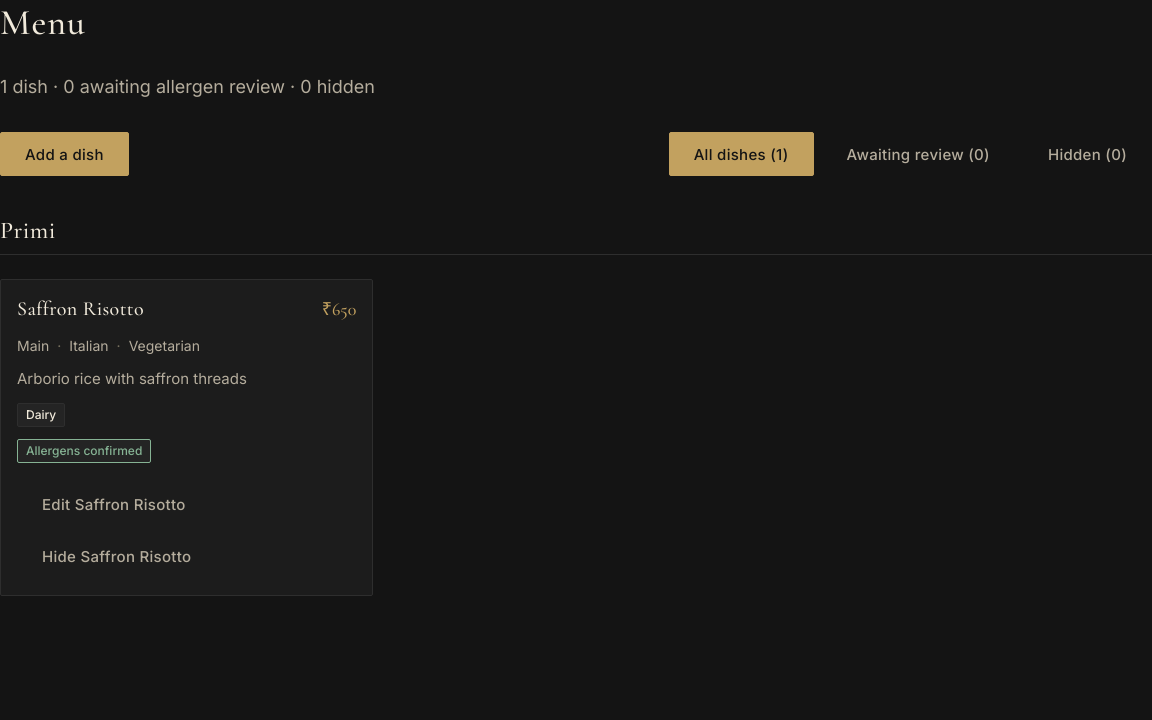
it: MenuManager page › 11. edit with no changes sends no network request and displays note
The width and height of the screenshot is (1152, 720).
Expected: the heading "Saffron Risotto" is shown, [17,297,144,322]
Click the button "Edit Saffron Risotto" at (114, 504), box [17,482,210,526]
(page scrolled)
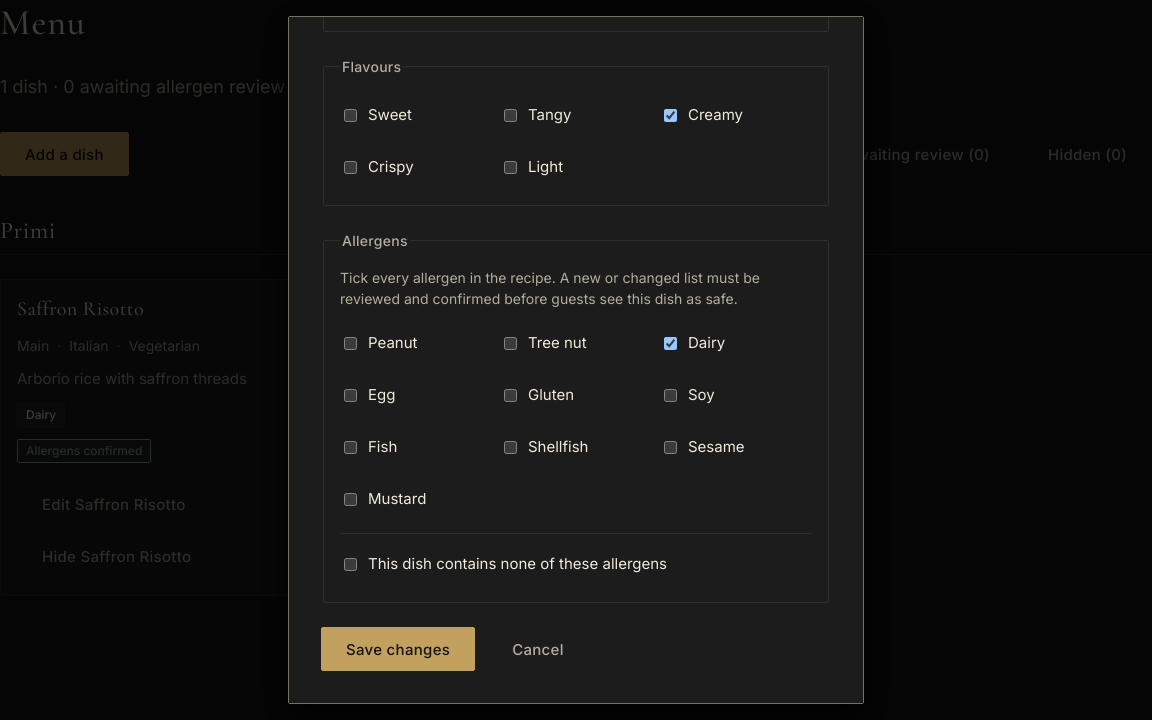
Click the button "Save changes" at (398, 649), box [321,627,475,671]
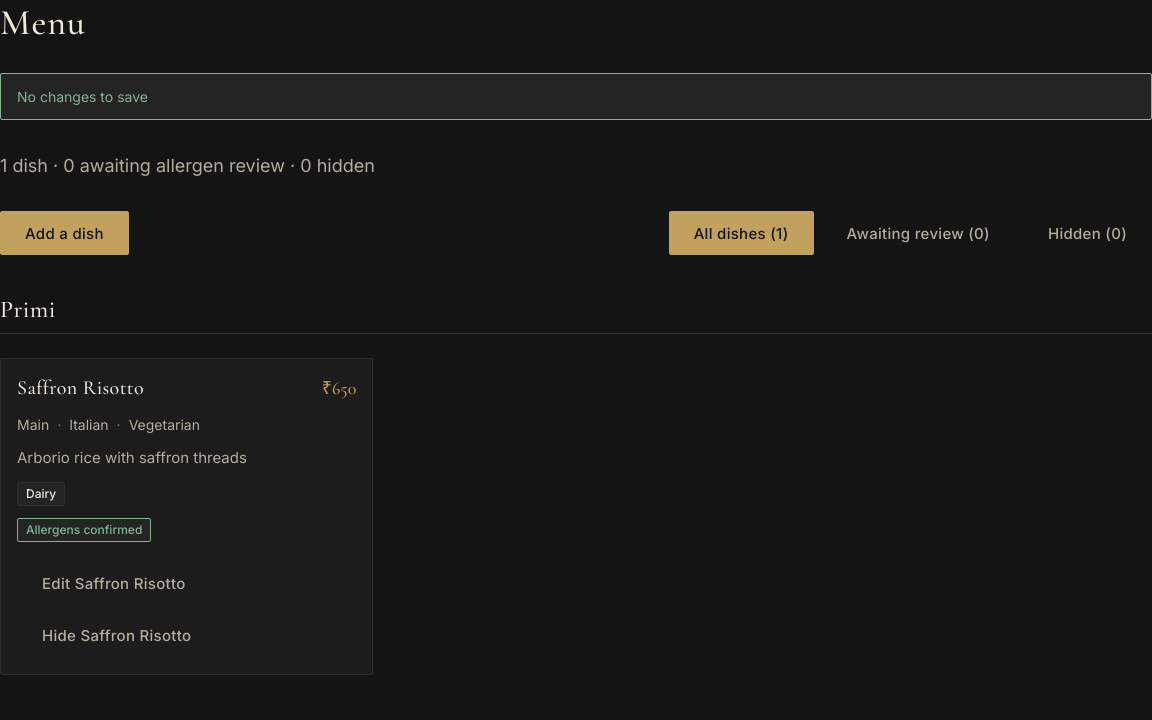
Expected: the text "No changes to save" is shown, [0,73,1151,120]
